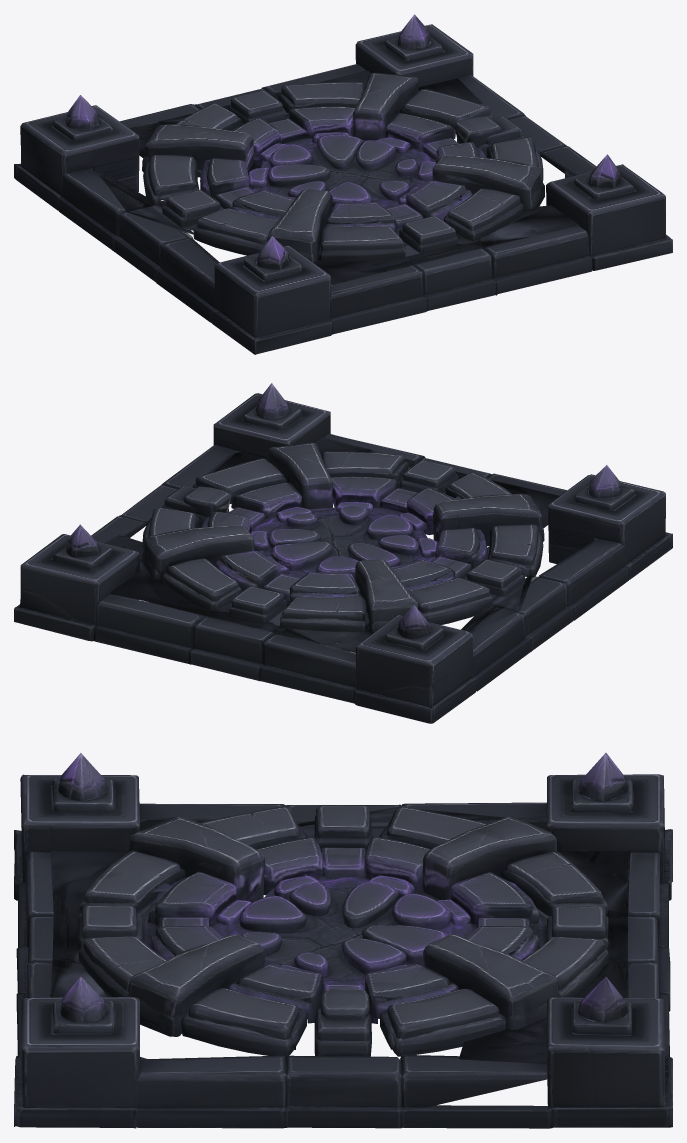
File: void_arcane_nexus_broken.glb
The picture shows the model from 3 angles, top to bottom: view 1: azimuth 30°, elevation 25°; view 2: azimuth 150°, elevation 25°; view 3: azimuth 270°, elevation 25°; orthographic projection. The views are drawn at different scales.
Visible parts, largest first — view 1: mesh_node; view 2: mesh_node; view 3: mesh_node.
Part boxes in pixels (box(x1,y1,x2,y2)): mesh_node: box(14, 14, 672, 354); mesh_node: box(14, 383, 672, 723); mesh_node: box(14, 753, 672, 1128).
Size of the model in its own units: 1 by 0.21 by 1.
Materials: 1 (1 with a texture image).
